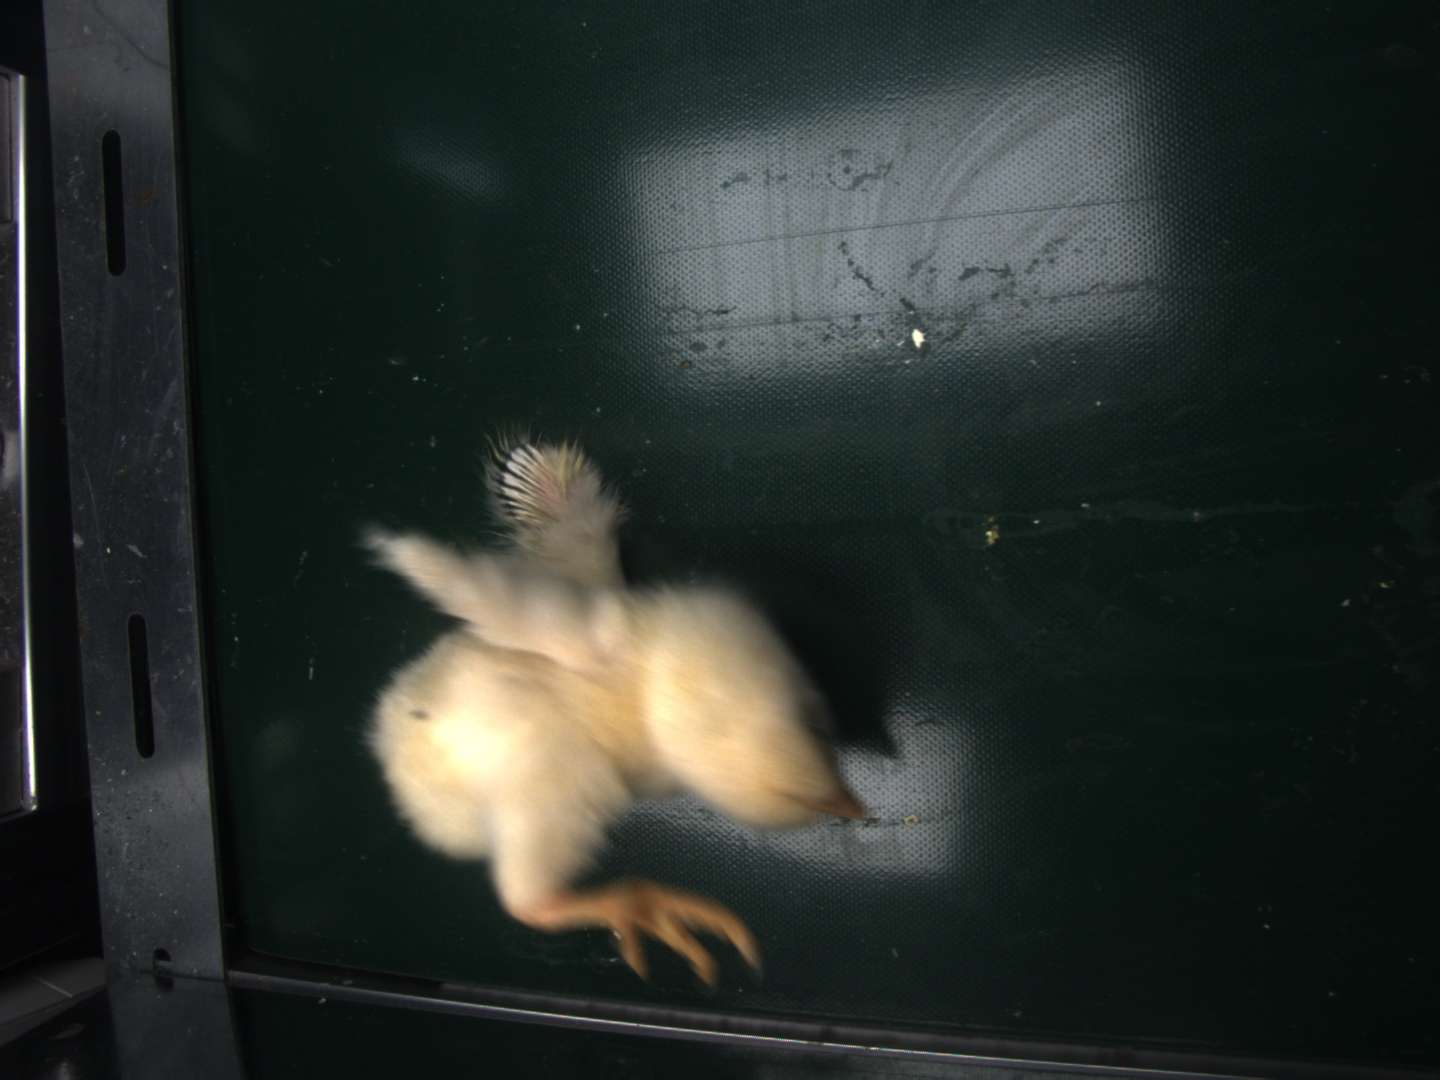male: (497, 436, 552, 531)
